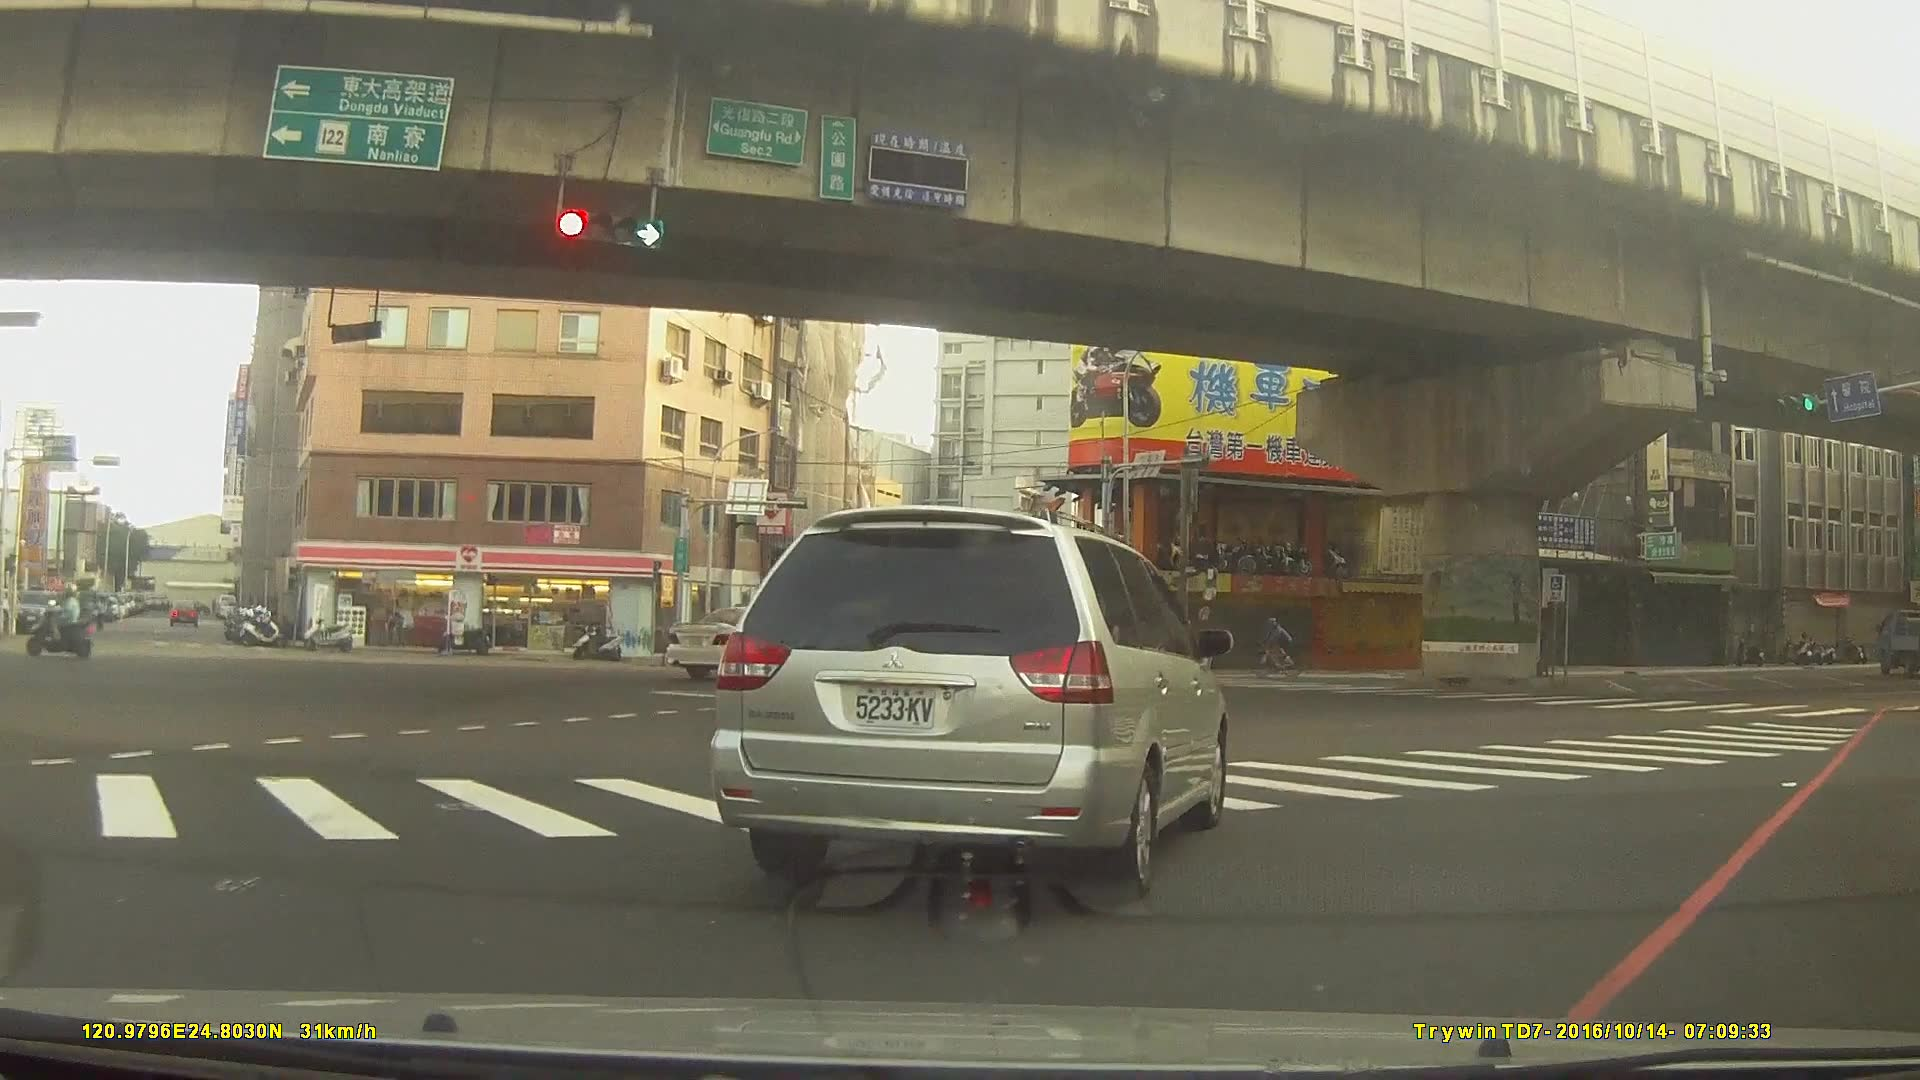rider: (23, 583, 92, 662), (1249, 616, 1306, 679)
vehicle: (709, 504, 1226, 903), (664, 603, 832, 678), (1874, 611, 1920, 675), (839, 632, 911, 673), (13, 590, 59, 635), (165, 596, 197, 624)
